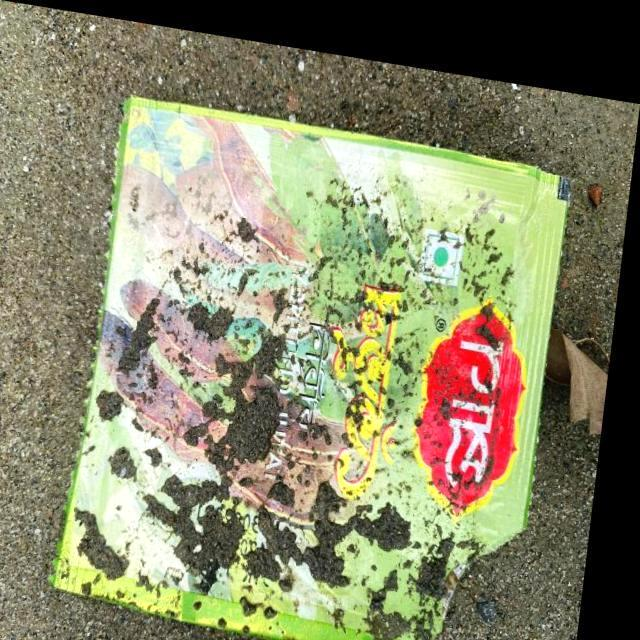packet: (46, 79, 574, 640)
